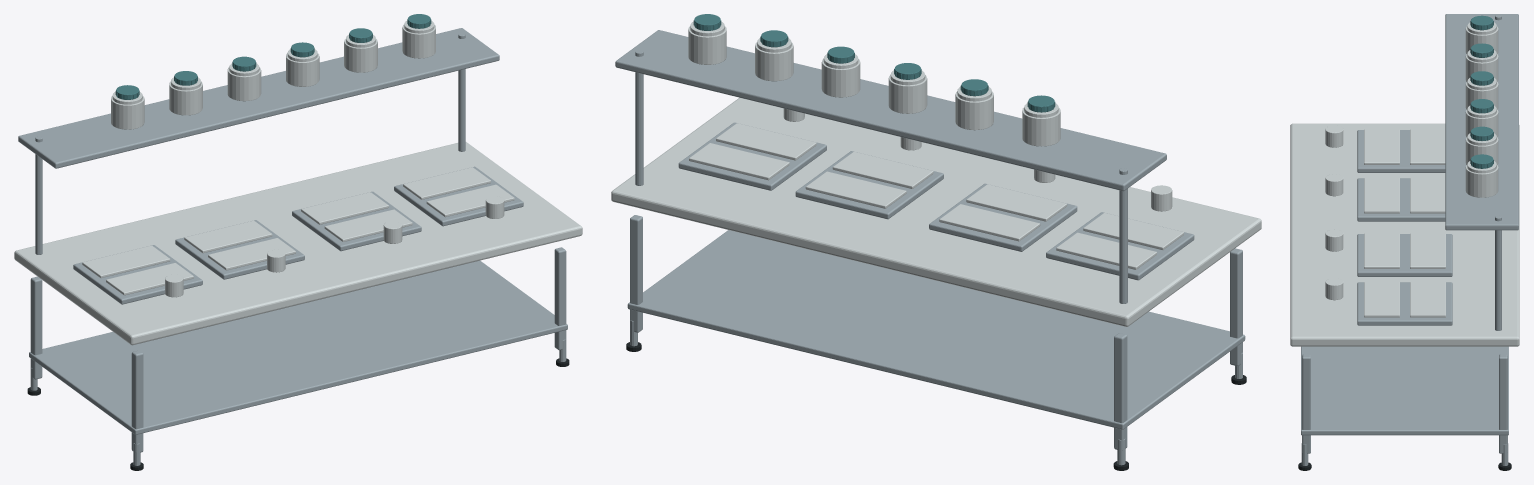
Rendered from RD_MealAssemblyIsland.fbx.
The picture shows the model from 3 angles, left to right: view 1: azimuth 30°, elevation 25°; view 2: azimuth 150°, elevation 25°; view 3: azimuth 270°, elevation 25°; orthographic projection. The views are drawn at different scales.
Visible parts, largest first — view 1: RD_MealAssemblyIsland; view 2: RD_MealAssemblyIsland; view 3: RD_MealAssemblyIsland.
Part boxes in pixels (x1,y1,x2,y2): RD_MealAssemblyIsland: (14, 14, 582, 470); RD_MealAssemblyIsland: (611, 14, 1261, 470); RD_MealAssemblyIsland: (1290, 14, 1519, 470).
Size of the model in its own units: 310 by 191 by 140.
